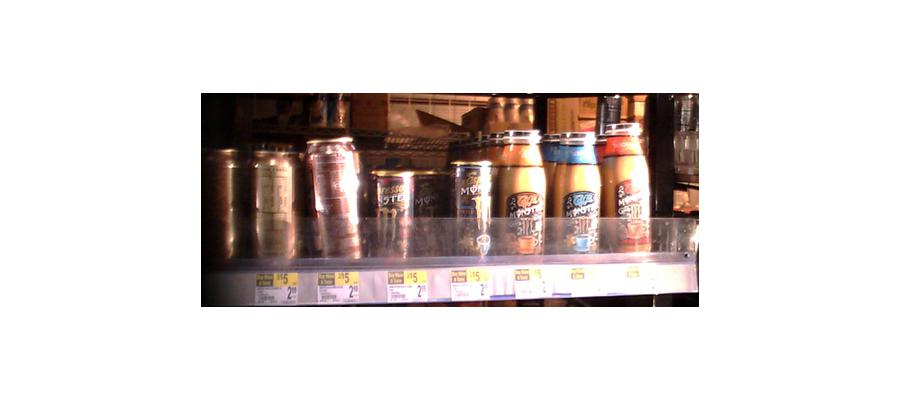bottle: (493, 112, 547, 262), (305, 134, 367, 262), (549, 119, 602, 259), (604, 110, 650, 256), (248, 140, 301, 266), (370, 163, 425, 265), (206, 143, 246, 269), (447, 151, 491, 259)
